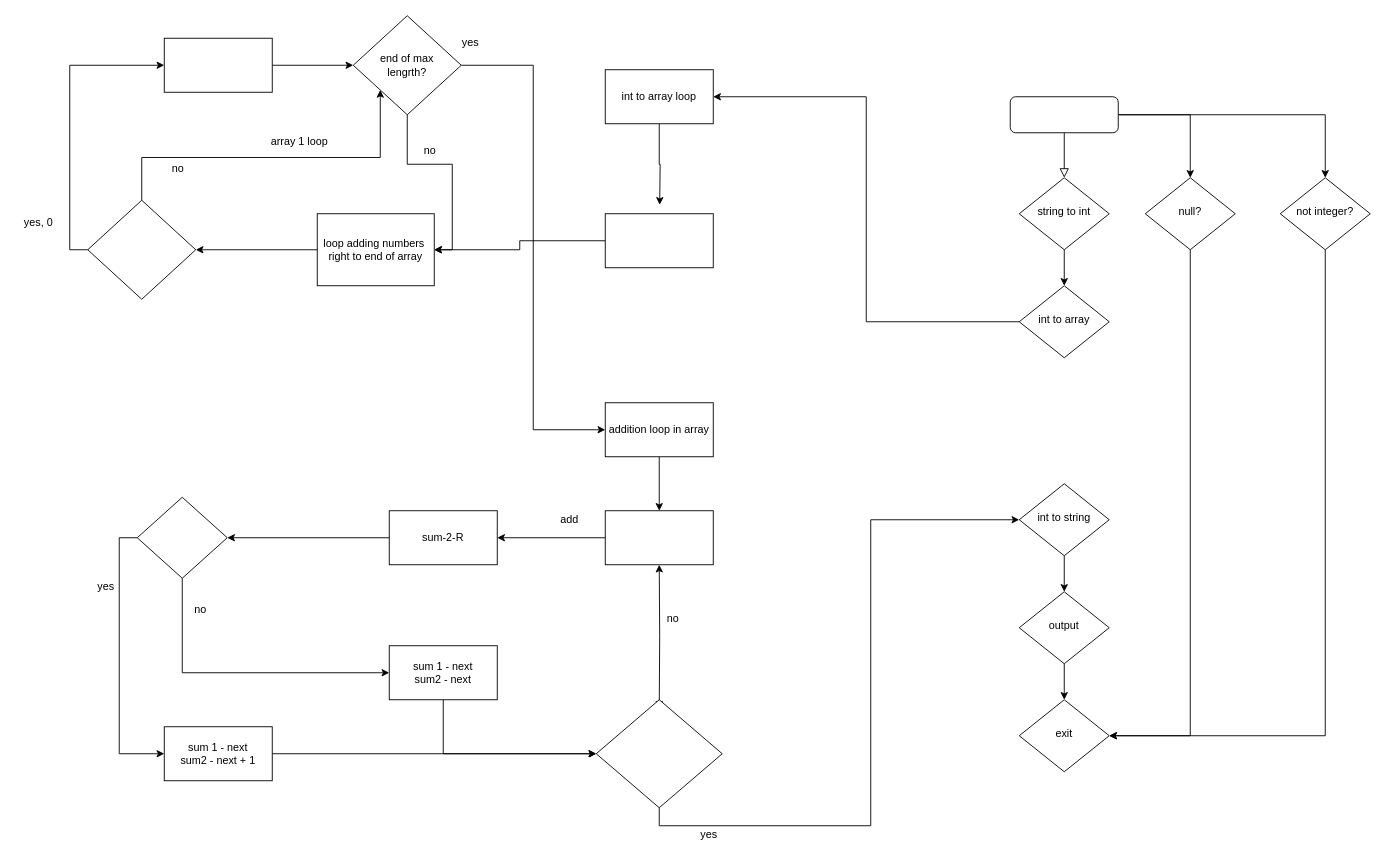
Some shapes in this 1386 by 860 pixel diagram are drawn without their labels. The box of each missing label's shape, as (x1, y1, x2, y2) in pixels:
2 num input: (1009, 96, 1118, 133)
end of sum1/ end of sum2?: (595, 699, 722, 808)
find length max of sum1+sum2: (604, 213, 713, 268)
loop insert '0' to array slot: (163, 37, 272, 92)
loop num not zero?: (87, 199, 196, 299)
remember?: (136, 496, 227, 578)
sum-1-R: (604, 510, 713, 565)
